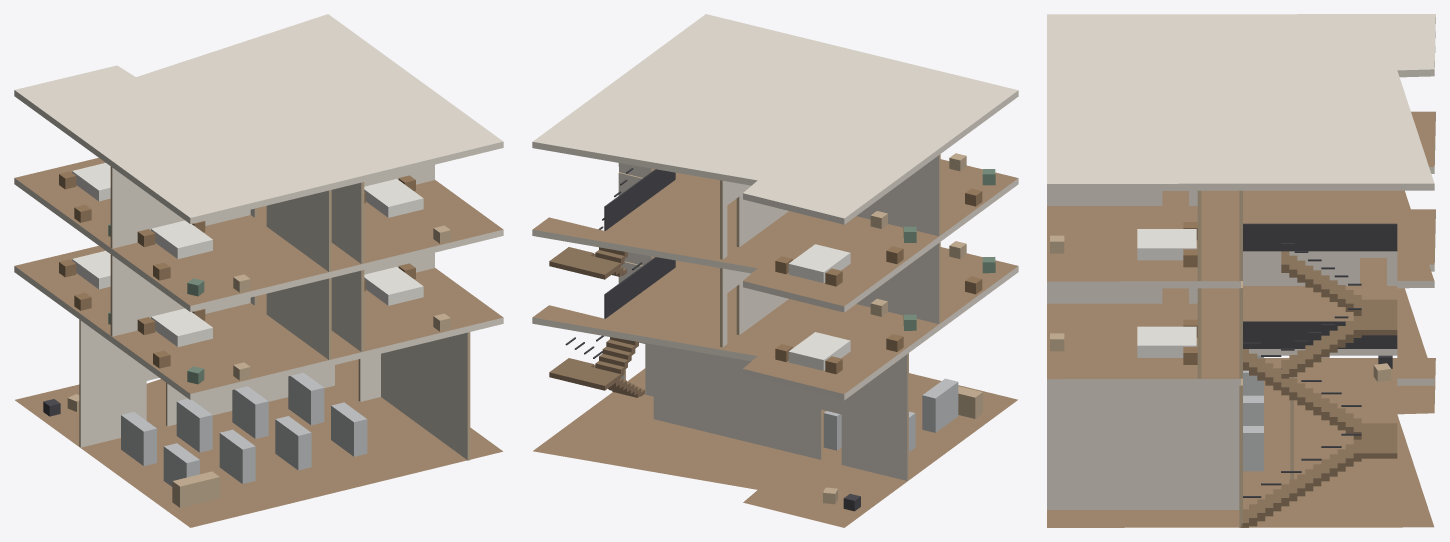
The model's file is interior.glb.
3 views of the same model, side by side, from view 1: azimuth 30°, elevation 25°; view 2: azimuth 150°, elevation 25°; view 3: azimuth 270°, elevation 25° (orthographic). The views are drawn at different scales.
Visible parts, largest first — view 1: slabs, partitions, coarse-s0, coarse-s2, coarse-s1; view 2: slabs, partitions, stair, coarse-s0, coarse-s2, coarse-s1; view 3: slabs, partitions, stair, coarse-s0, coarse-s2, coarse-s1.
Boxes of the visible parts, x1,y1,x2,y2 form: slabs: [14, 14, 503, 527]; partitions: [79, 164, 470, 460]; coarse-s0: [43, 372, 367, 507]; coarse-s2: [59, 163, 450, 296]; coarse-s1: [59, 250, 450, 384]; slabs: [532, 14, 1018, 527]; partitions: [618, 154, 940, 480]; stair: [549, 168, 675, 397]; coarse-s0: [823, 378, 982, 511]; coarse-s2: [775, 153, 995, 286]; coarse-s1: [775, 241, 995, 374]; slabs: [1047, 14, 1435, 527]; partitions: [1047, 190, 1397, 527]; stair: [1241, 223, 1397, 527]; coarse-s0: [1243, 355, 1392, 471]; coarse-s2: [1050, 222, 1197, 267]; coarse-s1: [1050, 319, 1197, 364].
Size of the model in its own units: 13.51 by 12.77 by 13.06.
